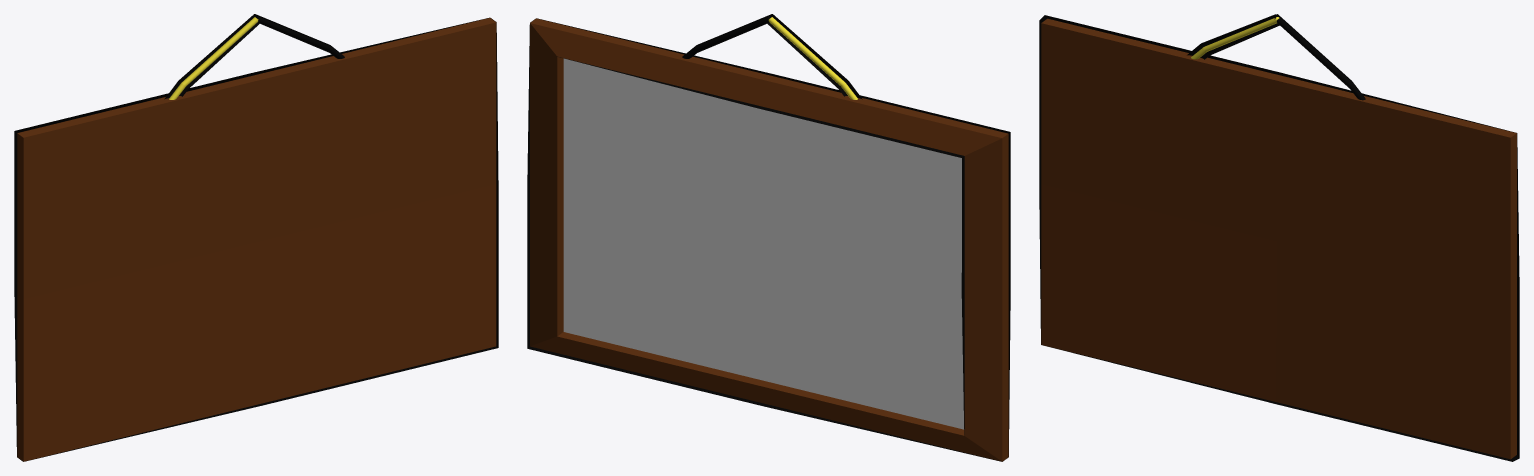
The model's file is Cuadro.fbx.
The picture shows the model from 3 angles, left to right: view 1: azimuth 30°, elevation 25°; view 2: azimuth 150°, elevation 25°; view 3: azimuth 330°, elevation 25°; orthographic projection.
Visible parts, largest first — view 1: Cylinder.005; view 2: Cylinder.005; view 3: Cylinder.005.
Boxes of the visible parts, box(x1,y1,x2,y2) form: Cylinder.005: box(14, 14, 498, 461); Cylinder.005: box(527, 14, 1010, 461); Cylinder.005: box(1039, 14, 1519, 461).
Bounding box in the file's own units: 144 × 112 × 6.16.
